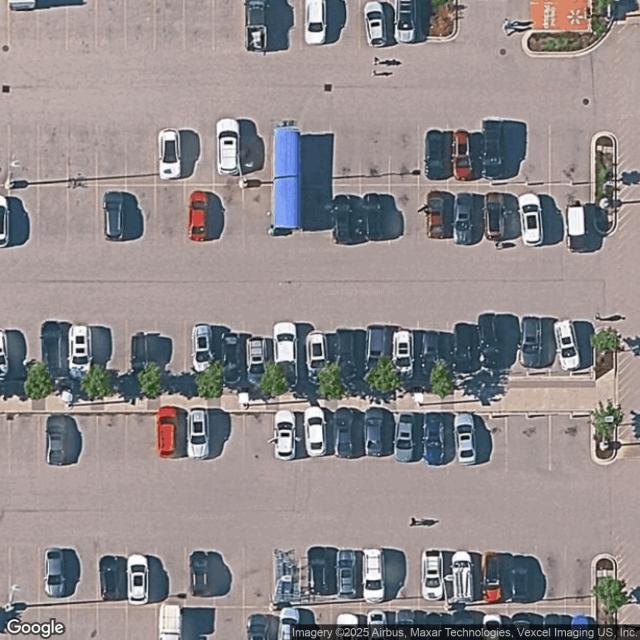car: (40, 320, 64, 380), (478, 312, 502, 370), (154, 405, 180, 458), (518, 193, 544, 245), (45, 414, 71, 466), (482, 122, 504, 182), (216, 118, 239, 175), (554, 321, 580, 370), (454, 413, 478, 464), (102, 190, 126, 241), (332, 192, 354, 247), (363, 1, 388, 49), (68, 326, 92, 376), (304, 406, 327, 458), (424, 129, 447, 181), (363, 407, 386, 459), (481, 552, 504, 604), (452, 192, 474, 246), (418, 329, 443, 376), (158, 128, 181, 179), (393, 411, 416, 462), (307, 547, 330, 598), (335, 548, 358, 599), (363, 192, 386, 243), (422, 548, 444, 601), (245, 0, 268, 50), (187, 408, 210, 458), (482, 191, 505, 241), (188, 191, 210, 243), (452, 129, 474, 181), (520, 317, 542, 369), (423, 412, 445, 464), (451, 550, 473, 602), (363, 548, 384, 602), (426, 191, 449, 240), (274, 408, 296, 459), (191, 323, 214, 371), (393, 0, 418, 44), (333, 405, 354, 457), (189, 552, 213, 597), (44, 547, 65, 598), (453, 322, 475, 370), (127, 554, 148, 604), (334, 328, 357, 373), (364, 326, 387, 371), (567, 202, 587, 253), (273, 322, 297, 364), (304, 0, 326, 44), (246, 336, 267, 382), (306, 331, 326, 378), (100, 557, 120, 602), (392, 330, 412, 372), (276, 608, 302, 640), (159, 603, 182, 638), (130, 332, 150, 372), (482, 612, 507, 638), (571, 613, 596, 639), (367, 608, 388, 638), (247, 613, 270, 640), (395, 609, 419, 634), (336, 612, 360, 637), (0, 329, 11, 378), (0, 194, 10, 245), (8, 0, 35, 10)
lot_boundary: (1, 0, 640, 640)
